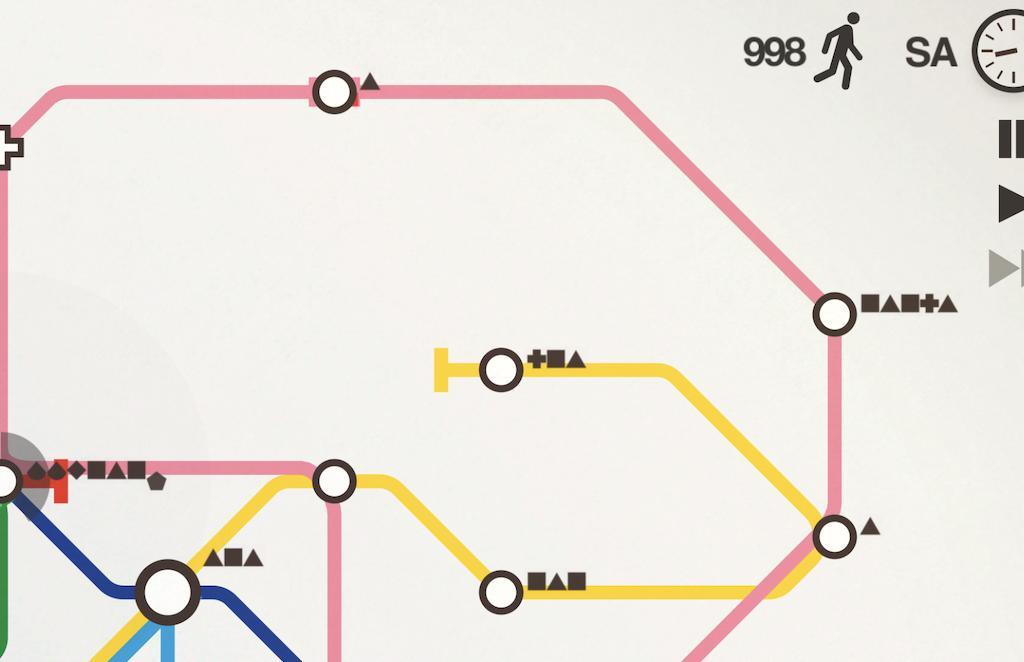connected_station: (117, 532, 220, 638), (460, 558, 529, 619), (301, 448, 367, 509), (805, 277, 866, 340), (807, 501, 869, 562), (476, 338, 534, 397), (313, 69, 372, 118), (0, 114, 42, 175), (0, 447, 27, 502)
fast_forward: (972, 244, 1024, 298)
line_endpoint: (41, 444, 83, 508), (422, 338, 463, 399)
pause: (963, 112, 1024, 171)
play: (962, 176, 1024, 229)
